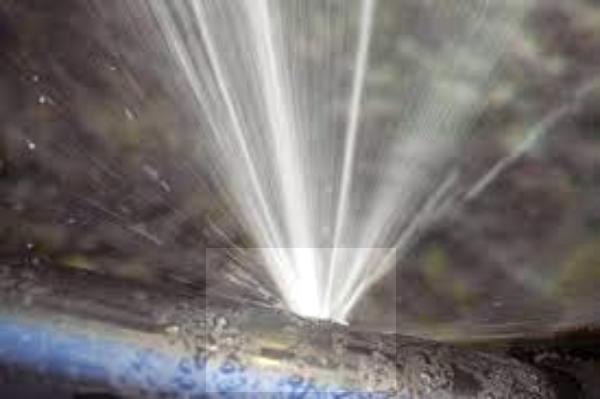water: (206, 248, 396, 392)
